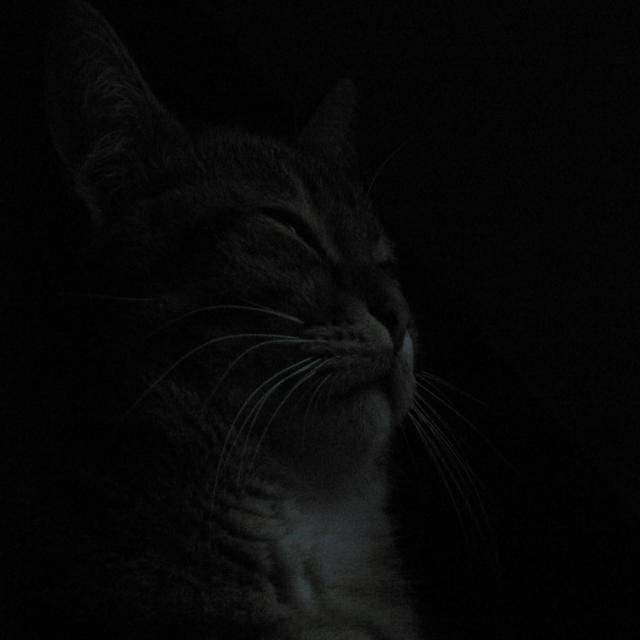Cat: (26, 0, 437, 636)
